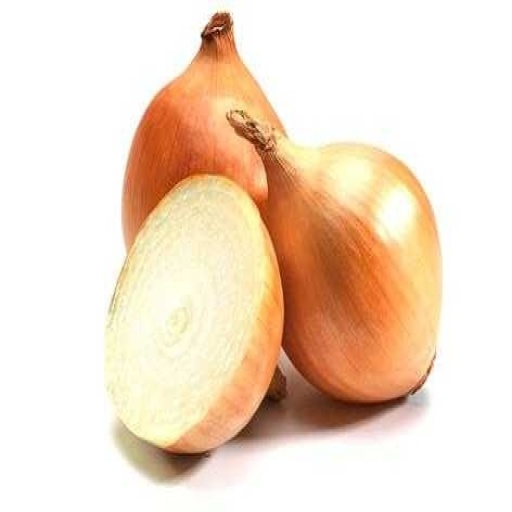Zwiebel: (225, 107, 442, 403), (104, 174, 287, 454)
